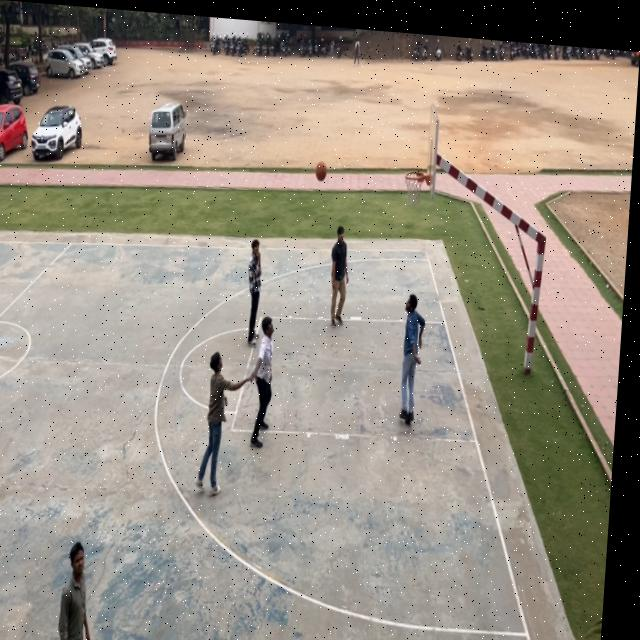basketball: (313, 157, 329, 185)
hoop: (400, 165, 431, 214)
